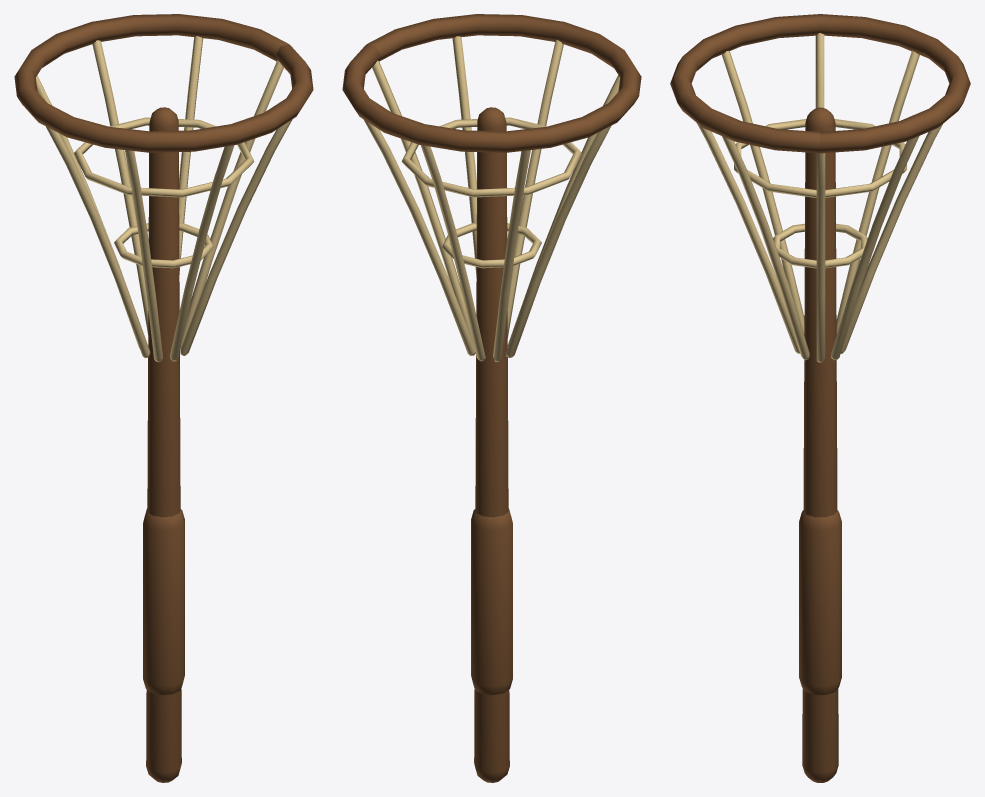
File: net.glb
The picture shows the model from 3 angles, left to right: view 1: azimuth 30°, elevation 25°; view 2: azimuth 150°, elevation 25°; view 3: azimuth 270°, elevation 25°; orthographic projection.
Parts seen in each view (by area): view 1: wood, rope; view 2: wood, rope; view 3: wood, rope.
Part boxes in pixels (box(x1,y1,x2,y2)): wood: box(14, 14, 313, 782); rope: box(36, 36, 292, 362); wood: box(342, 14, 641, 782); rope: box(363, 36, 619, 362); wood: box(670, 14, 970, 782); rope: box(697, 33, 942, 362).
Size of the model in its own units: 0.5598 by 1.45 by 0.56.
